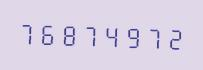eight: (59, 18, 79, 49)
four: (101, 20, 121, 50)
nine: (122, 20, 142, 51)
seven: (143, 21, 163, 52), (17, 17, 37, 47), (80, 19, 100, 49)
six: (38, 17, 58, 48)
two: (164, 22, 184, 52)
